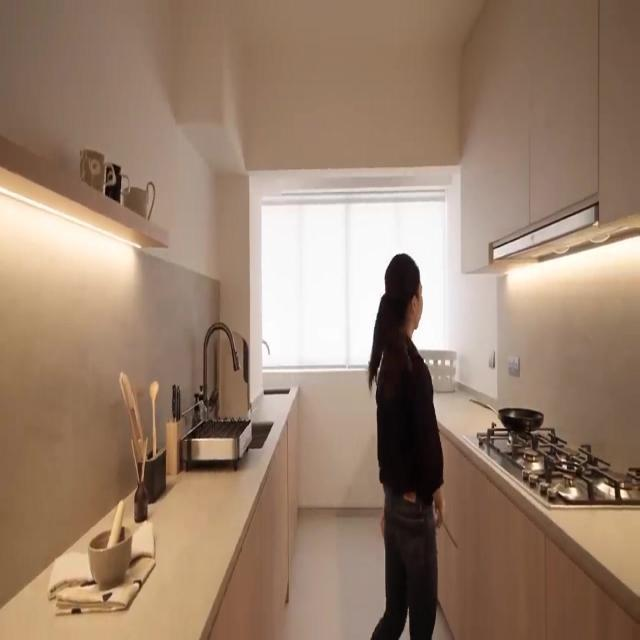obstacle: (0, 385, 298, 639)
person: (367, 252, 445, 640)
